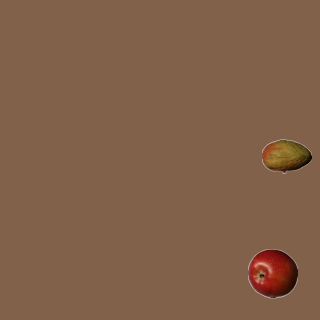Apple Braeburn: (247, 248, 297, 298)
Papaya: (261, 131, 311, 181)
